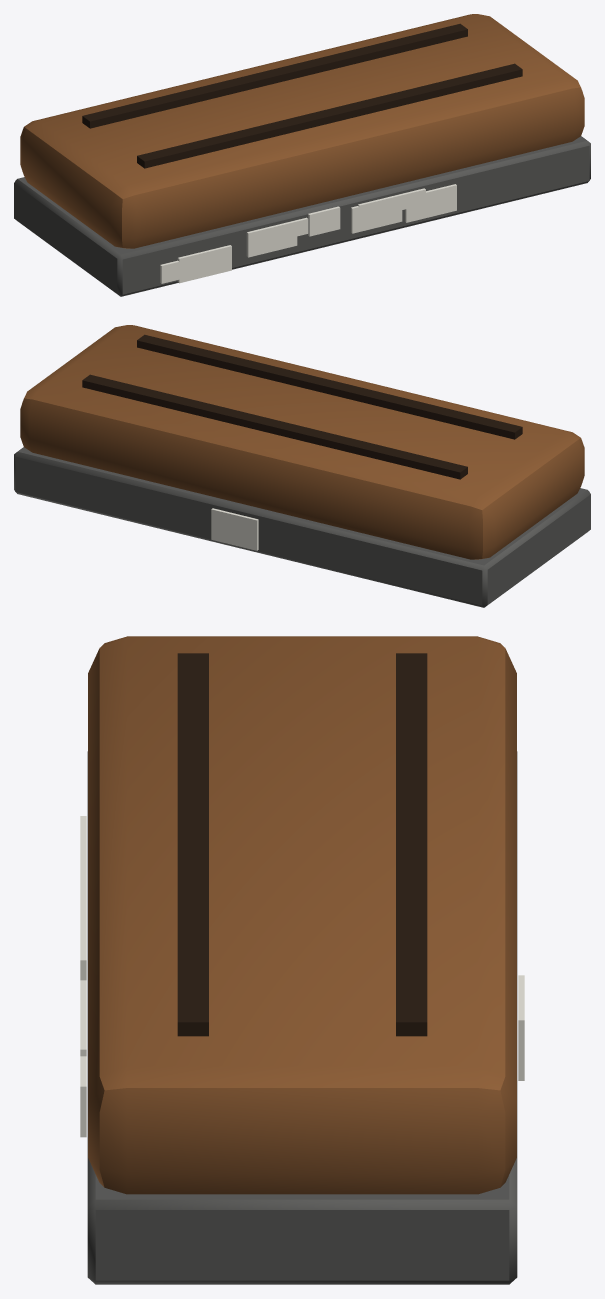
File: item_eraser.glb
The picture shows the model from 3 angles, top to bottom: view 1: azimuth 30°, elevation 25°; view 2: azimuth 150°, elevation 25°; view 3: azimuth 270°, elevation 25°; orthographic projection. The views are drawn at different scales.
Parts seen in each view (by area): view 1: Eraser; view 2: Eraser; view 3: Eraser.
Boxes of the visible parts, <box> form: Eraser: <box>14,14,590,296</box>; Eraser: <box>14,325,590,607</box>; Eraser: <box>80,636,524,1284</box>.
Bounding box in the file's own units: 0.1403 × 0.0315 × 0.057.
